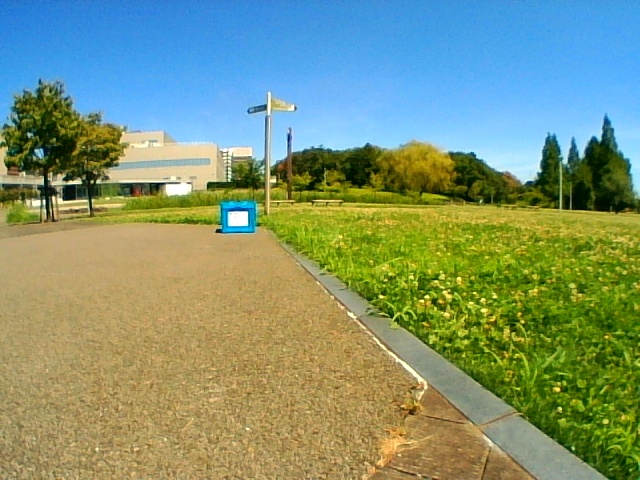blue_box: (223, 202, 254, 232)
tag: (228, 211, 249, 227)
